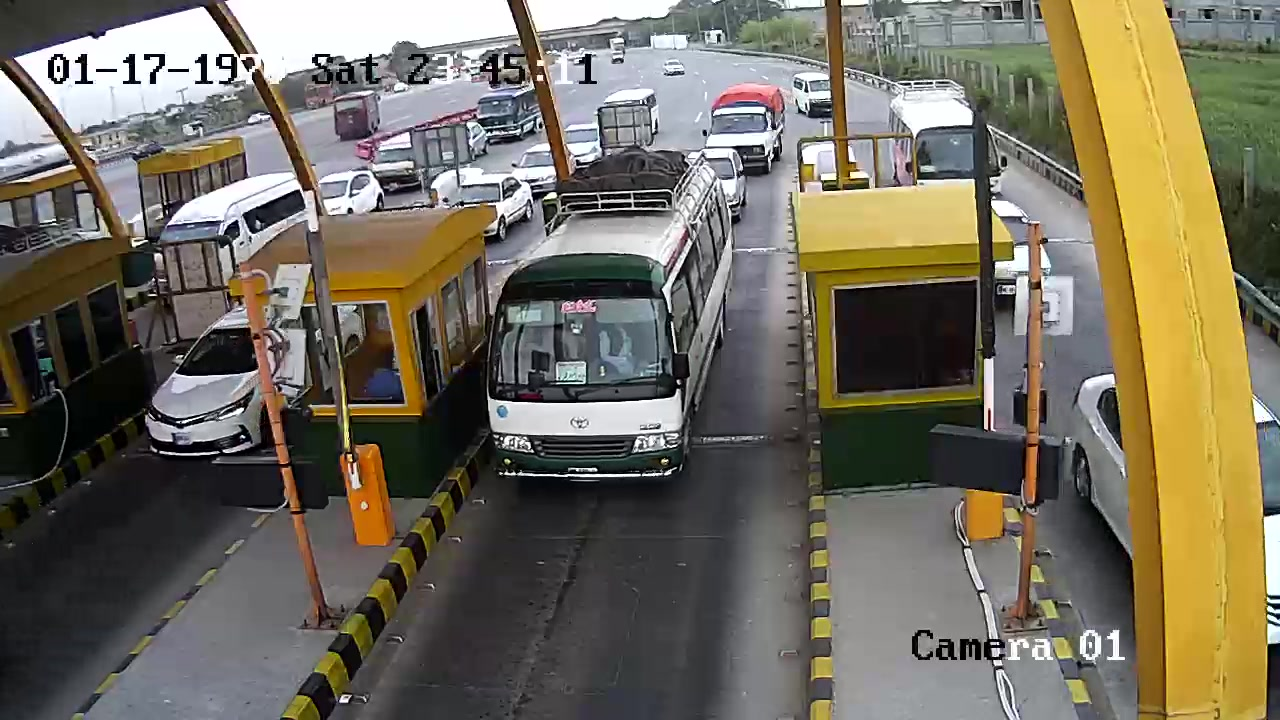F3: (484, 145, 734, 498)
